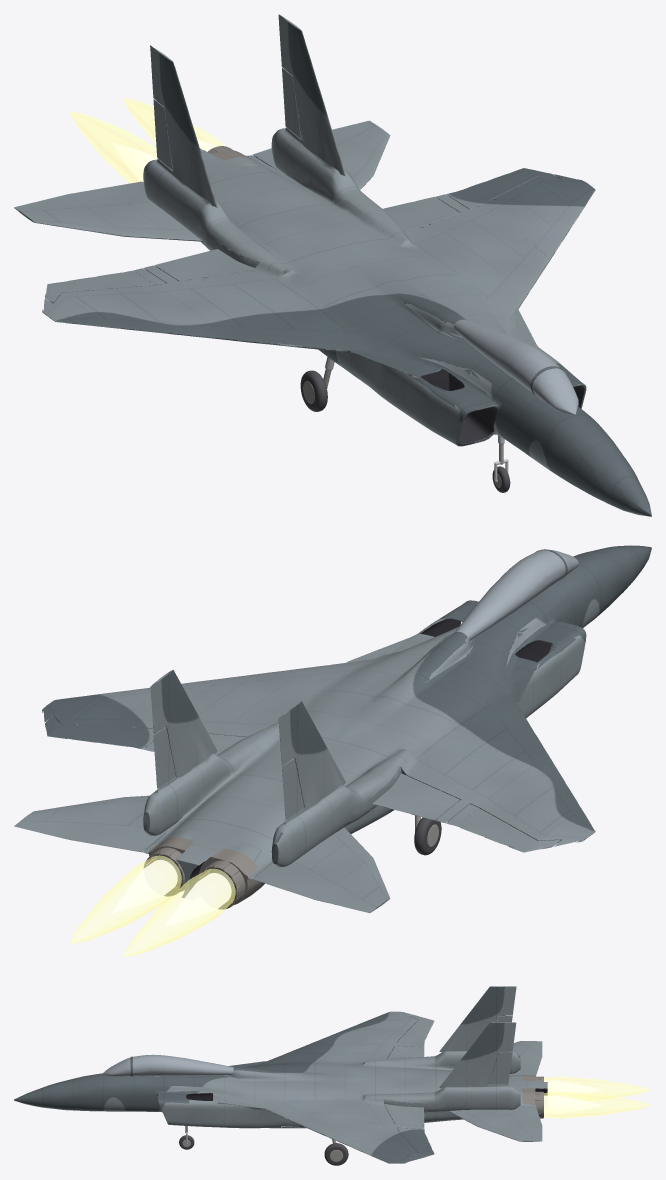
3 renders of one model, top to bottom at view 1: azimuth 30°, elevation 25°; view 2: azimuth 150°, elevation 25°; view 3: azimuth 270°, elevation 25°, orthographic. The views are drawn at different scales.
Parts seen in each view (by area): view 1: airframe, fsim:elevator+aileron:-0.5@-25,15, fsim:aileron (×2), fsim:flaps (×2), fsim:afterburner:1, fsim:elevator+aileron:0.5@-25,15, fsim:rudder (×2), fsim:afterburner:0, fsim:wheel:2:0.438; view 2: airframe, fsim:elevator+aileron:-0.5@-25,15, fsim:elevator+aileron:0.5@-25,15, fsim:afterburner:1, fsim:afterburner:0, fsim:aileron (×2), fsim:flaps, fsim:rudder (×2), fsim:wheel:2:0.438; view 3: airframe, fsim:elevator+aileron:0.5@-25,15, fsim:afterburner:0, fsim:afterburner:1, fsim:aileron (×2), fsim:flaps (×2), fsim:elevator+aileron:-0.5@-25,15, fsim:rudder, fsim:wheel:1:0.438.
Part boxes in pixels (x1,y1,x2,y2): airframe: (42,14,651,516); fsim:elevator+aileron:-0.5@-25,15: (14,181,202,241); fsim:aileron (×2): (45,168,560,303); fsim:flaps (×2): (154,196,459,281); fsim:afterburner:1: (69,111,157,183); fsim:elevator+aileron:0.5@-25,15: (253,120,390,189); fsim:rudder (×2): (153,68,301,170); fsim:afterburner:0: (123,98,225,151); fsim:wheel:2:0.438: (300,370,327,411); airframe: (42,545,651,904); fsim:elevator+aileron:-0.5@-25,15: (253,827,390,913); fsim:elevator+aileron:0.5@-25,15: (14,795,175,852); fsim:afterburner:1: (123,868,235,957); fsim:afterburner:0: (69,855,181,943); fsim:aileron (×2): (45,716,560,852); fsim:flaps: (372,773,459,820); fsim:rudder (×2): (153,727,304,819); fsim:wheel:2:0.438: (414,817,441,855); airframe: (14,986,547,1163); fsim:elevator+aileron:0.5@-25,15: (448,1106,542,1141); fsim:afterburner:0: (544,1091,651,1118); fsim:afterburner:1: (544,1076,651,1101); fsim:aileron (×2): (397,1016,434,1158); fsim:flaps (×2): (384,1045,424,1125); fsim:elevator+aileron:-0.5@-25,15: (510,1041,542,1075); fsim:rudder: (488,1052,512,1084); fsim:wheel:1:0.438: (324,1143,348,1165).
Bounding box in the file's own units: 13.05 × 5.82 × 23.22.
9 materials, 1 textured.
